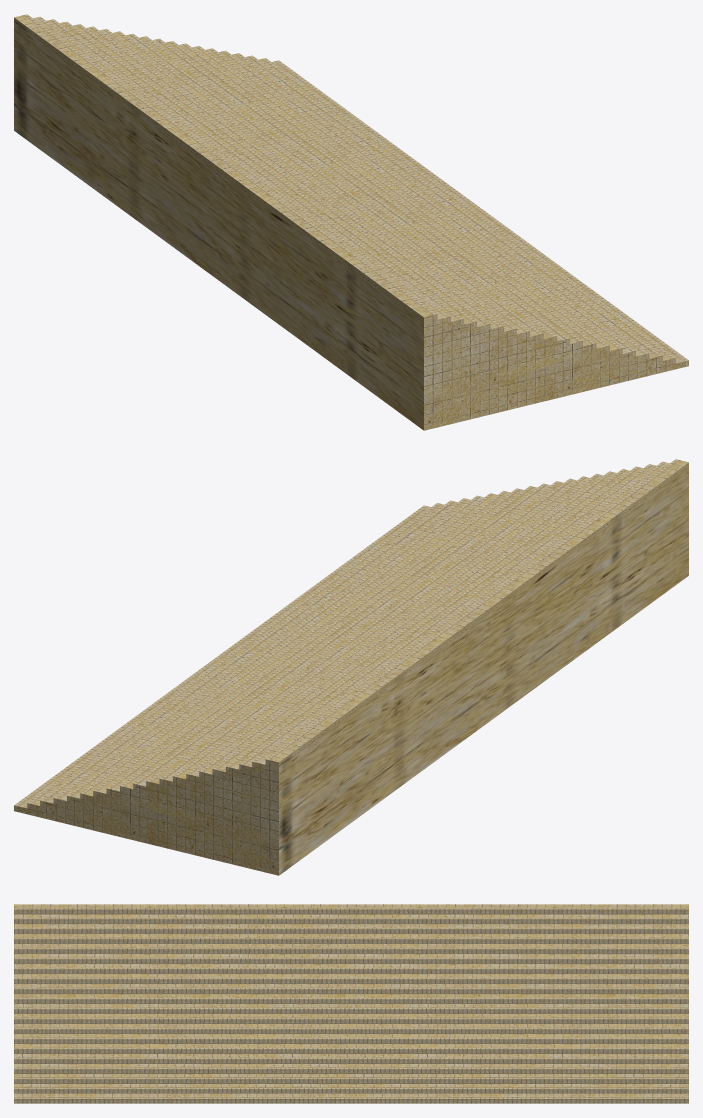
The model's file is desert_stairs_temple.dae.
3 views of the same model, one above another, from view 1: azimuth 30°, elevation 25°; view 2: azimuth 150°, elevation 25°; view 3: azimuth 270°, elevation 25° (orthographic). The views are drawn at different scales.
Parts seen in each view (by area): view 1: desert_stairs_temple; view 2: desert_stairs_temple; view 3: desert_stairs_temple.
Part boxes in pixels (<box>): desert_stairs_temple: <box>14,14,688,430</box>; desert_stairs_temple: <box>14,459,688,875</box>; desert_stairs_temple: <box>14,904,688,1103</box>.
Size of the model in its own units: 14.94 by 40.05 by 6.1.
2 materials, 2 textured.
